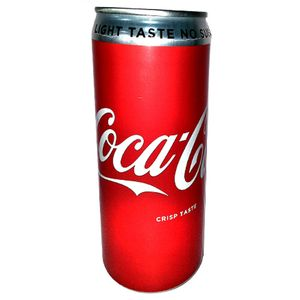coke: (95, 105, 220, 200)
